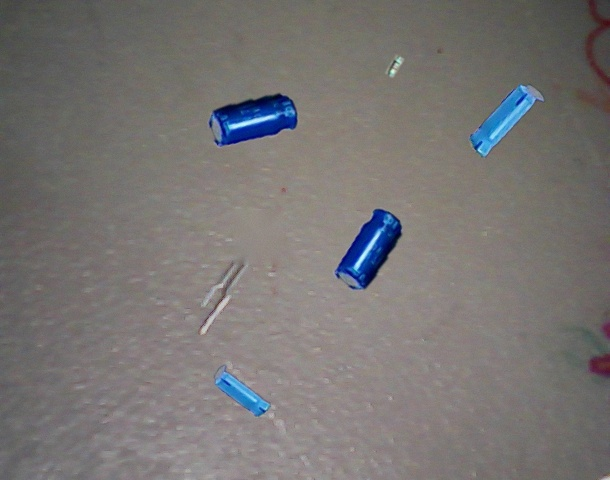capacitor: (334, 208, 402, 290), (469, 85, 544, 158), (208, 94, 298, 147), (214, 365, 271, 417)
resistor: (386, 55, 404, 78)
